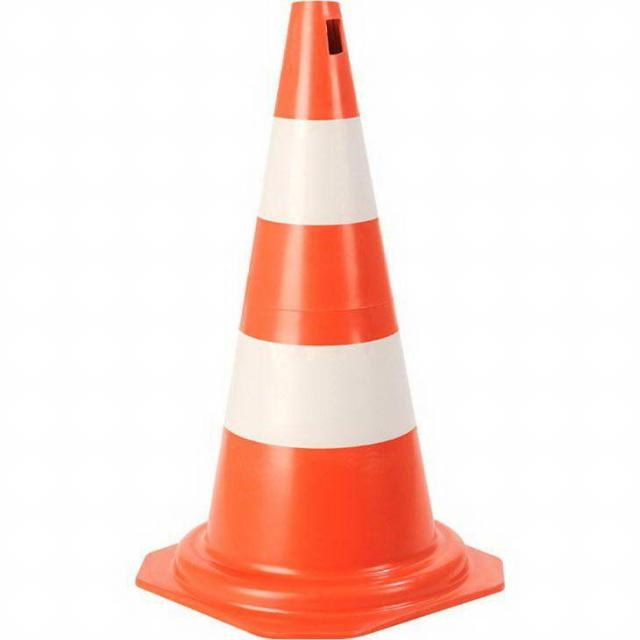cone: (111, 0, 516, 618)
